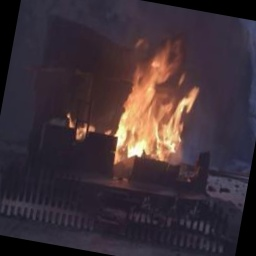fire: (96, 30, 222, 176)
